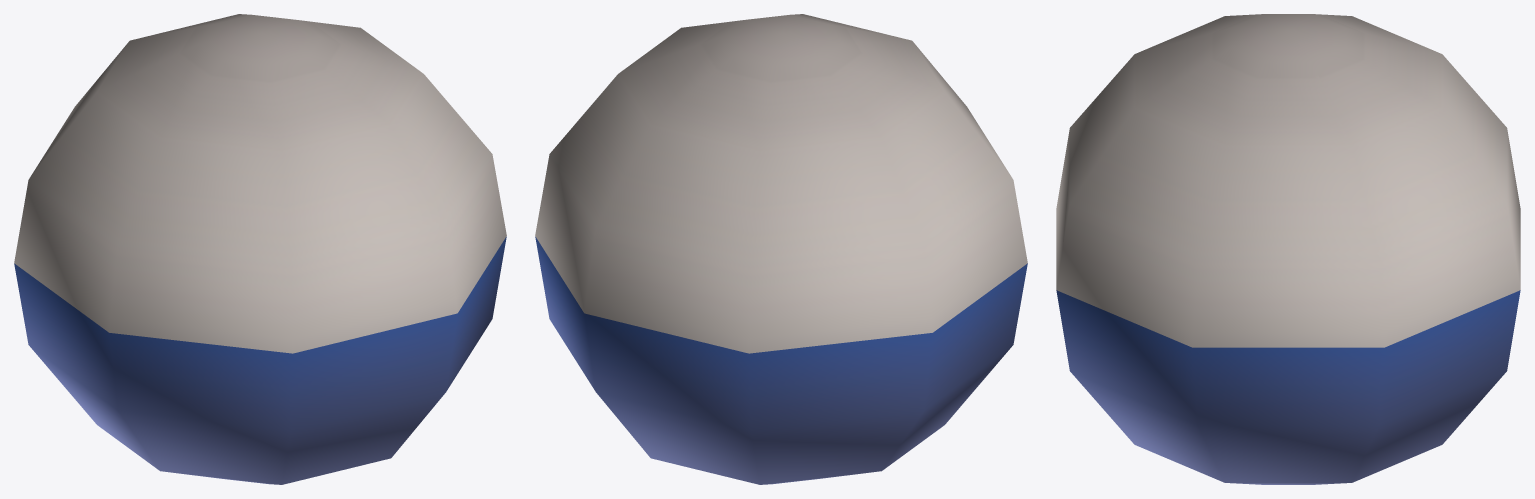
File: lowlanyuan_niudan_Geo.fbx
The picture shows the model from 3 angles, left to right: view 1: azimuth 30°, elevation 25°; view 2: azimuth 150°, elevation 25°; view 3: azimuth 270°, elevation 25°; orthographic projection.
Visible parts, largest first — view 1: lowlanyuan_niudan_Geo; view 2: lowlanyuan_niudan_Geo; view 3: lowlanyuan_niudan_Geo.
Part boxes in pixels (<box>): lowlanyuan_niudan_Geo: <box>14,14,506,484</box>; lowlanyuan_niudan_Geo: <box>535,14,1027,484</box>; lowlanyuan_niudan_Geo: <box>1056,14,1520,484</box>.
Size of the model in its own units: 16.09 by 16.71 by 16.09.
Materials: 1 (1 with a texture image).
